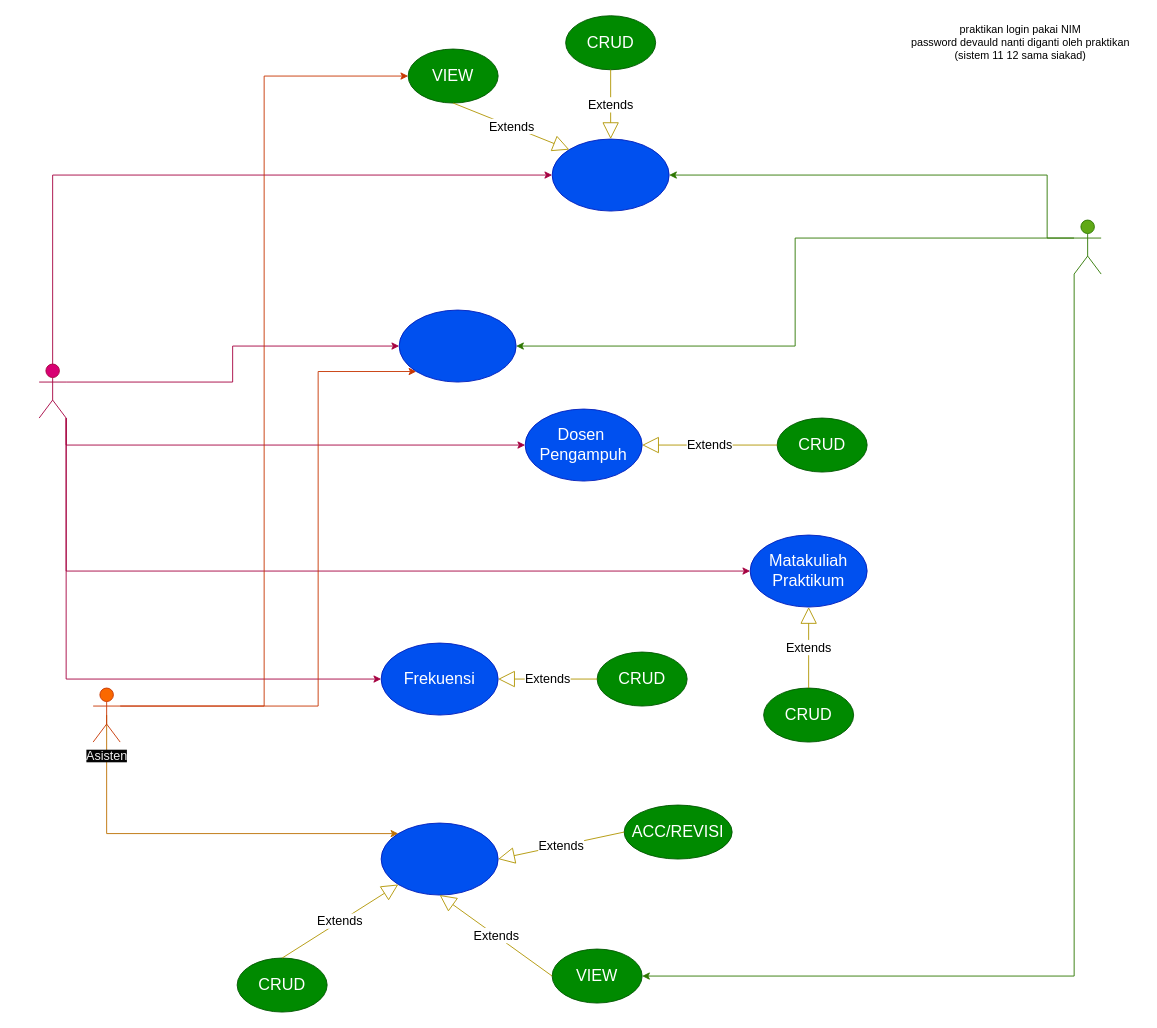
Some shapes in this 1157 by 1028 pixel diagram are drawn without their labels. The shapes that lost their labels are listed below. From the top down, each one's centre as x and y in pixels, then its label:
the point at 610,174: Profile
the point at 1087,246: Praktikan
the point at 457,345: Login
the point at 52,390: Administrator
the point at 439,858: Tugas
